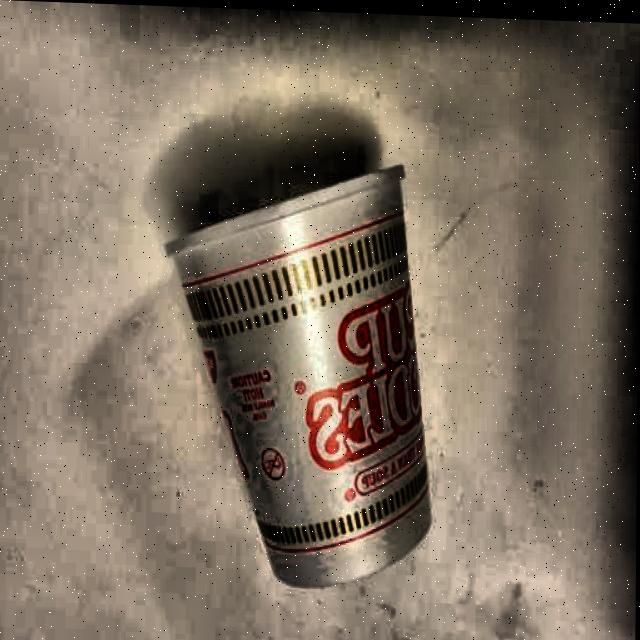trash: (156, 153, 439, 595)
